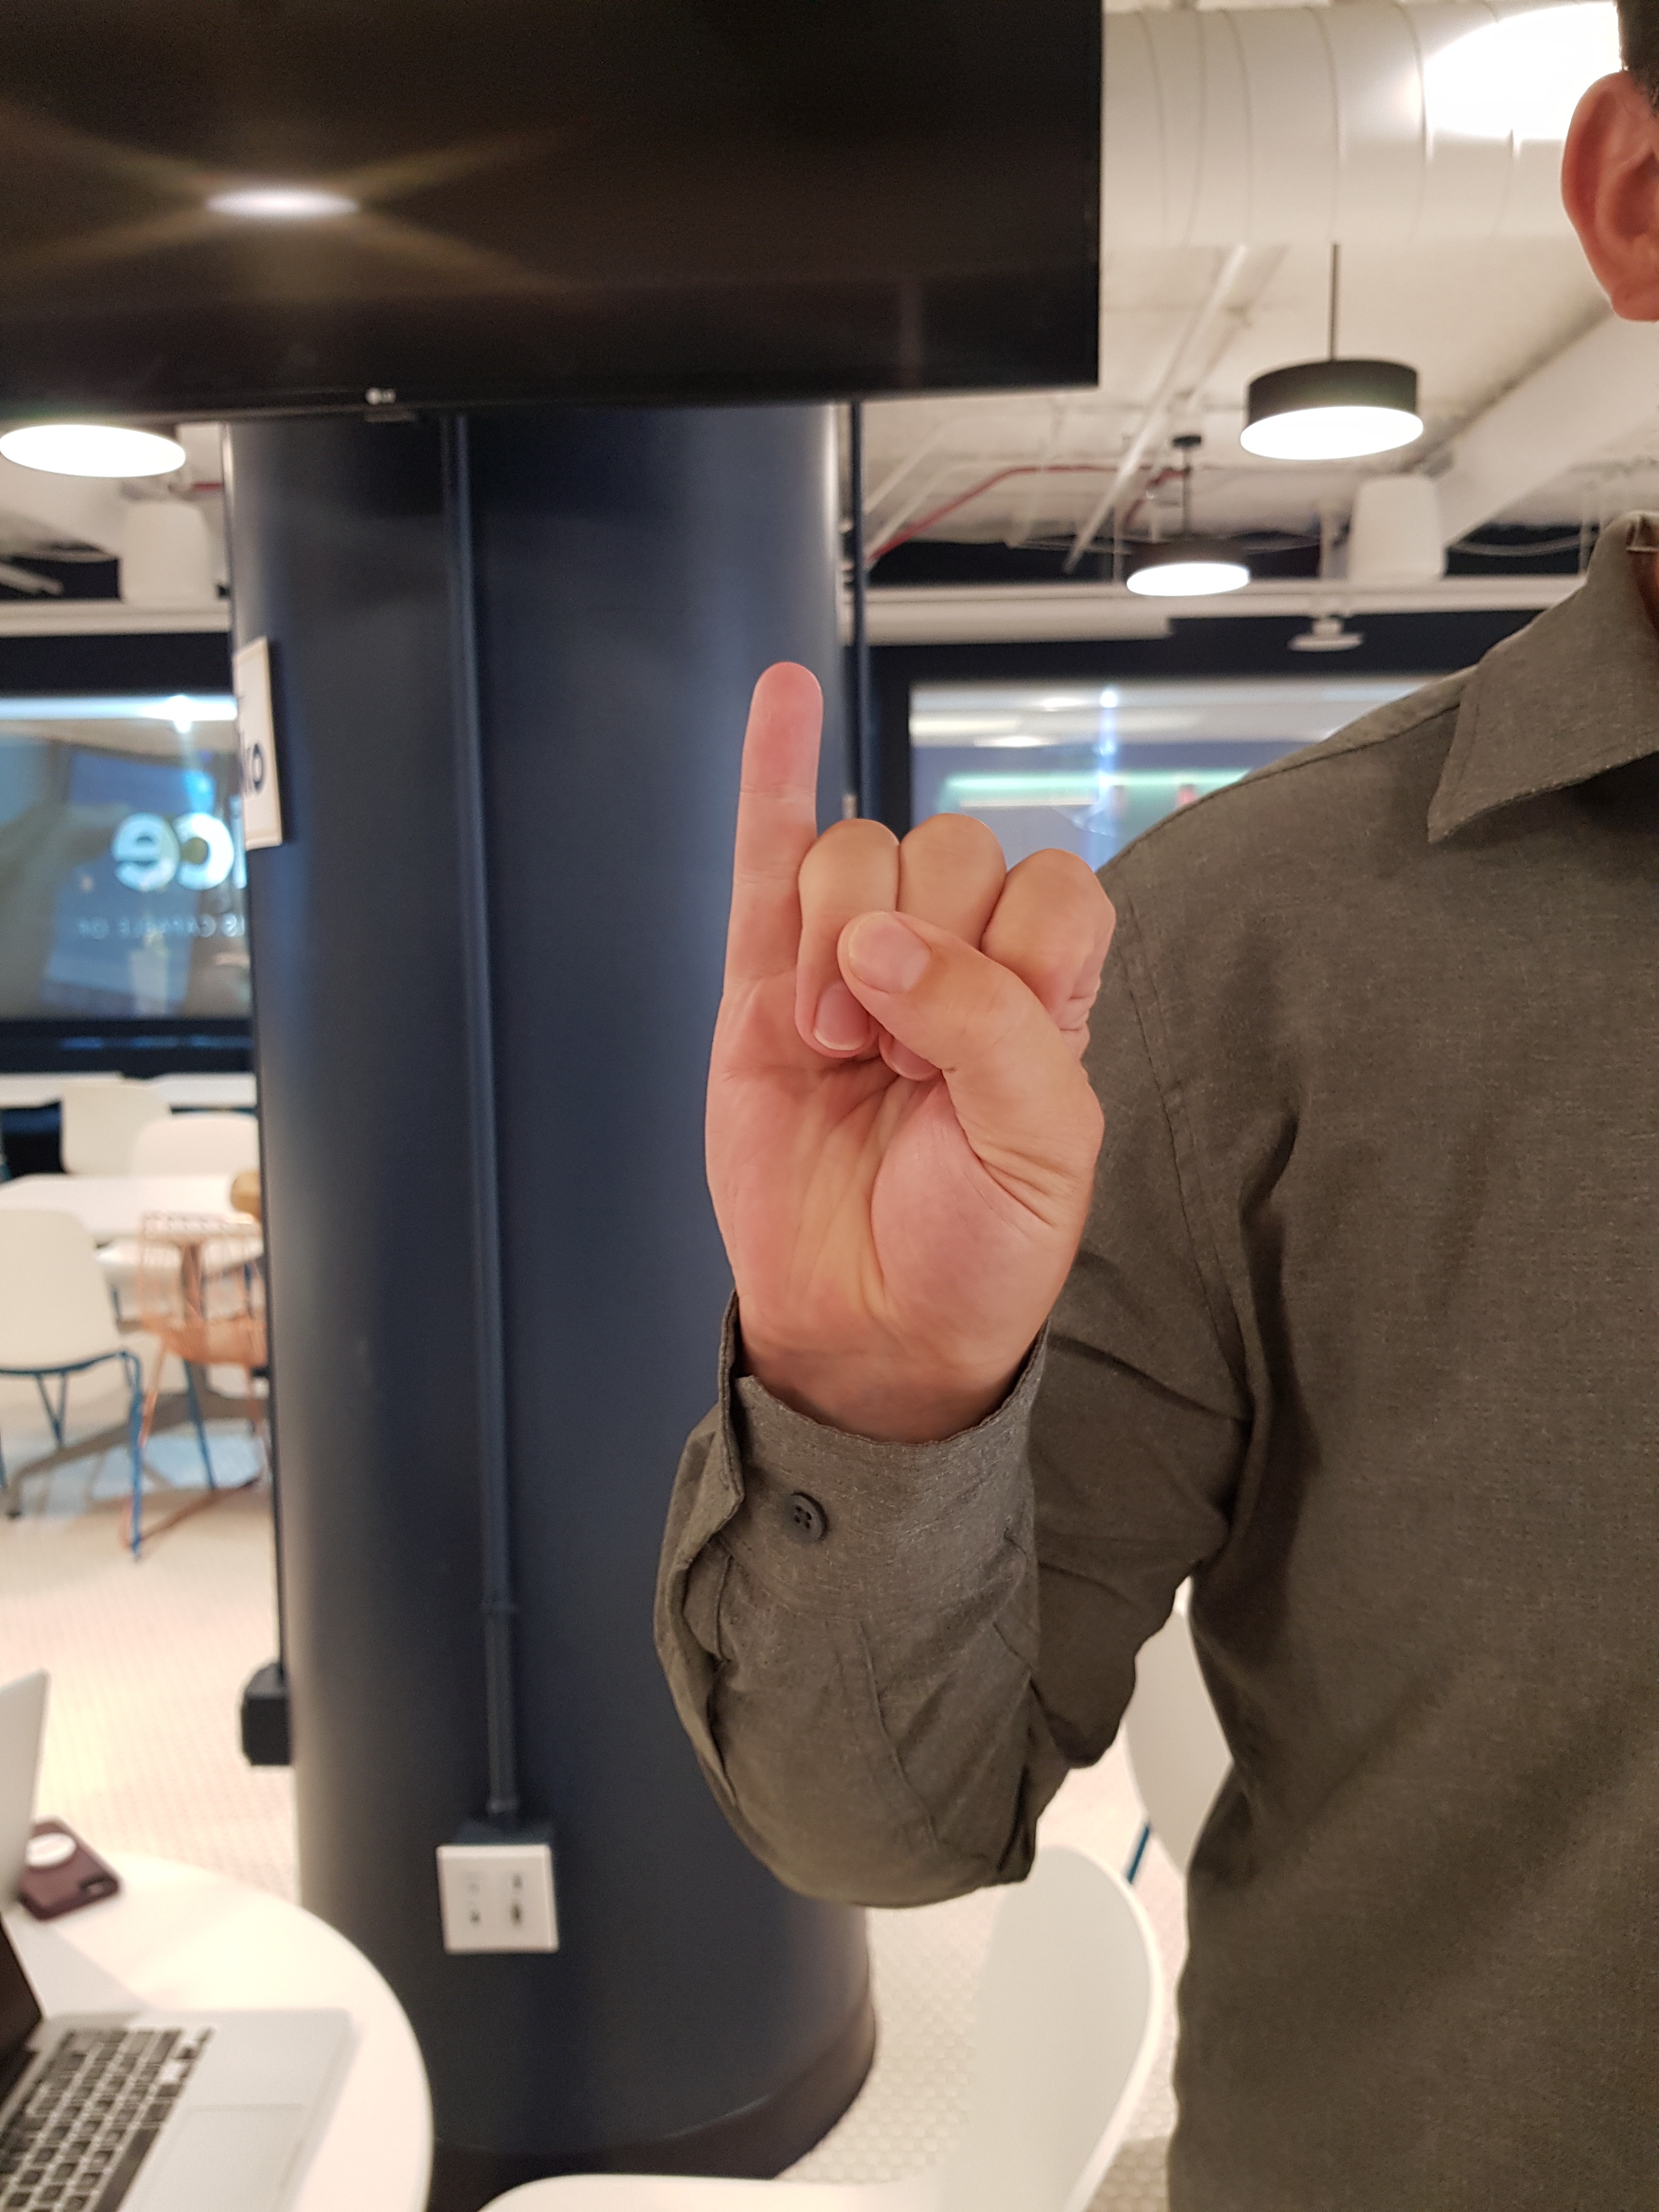i: (673, 618, 1159, 1461)
